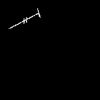treble_crochet: (11, 13, 39, 27)
